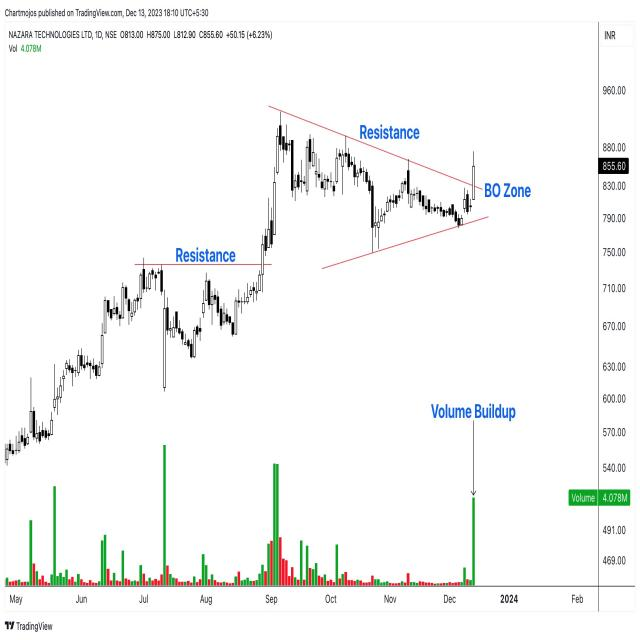Triangle: (259, 110, 514, 281)
